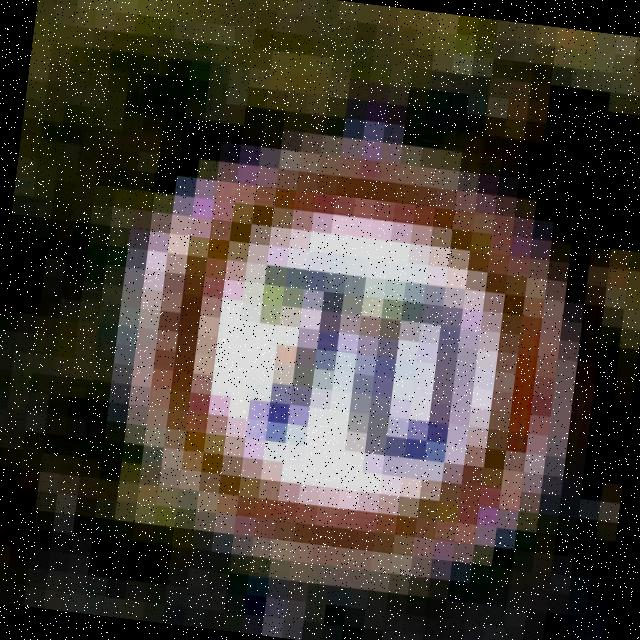Ograniczenie predkosci do 70: (142, 148, 575, 572)
